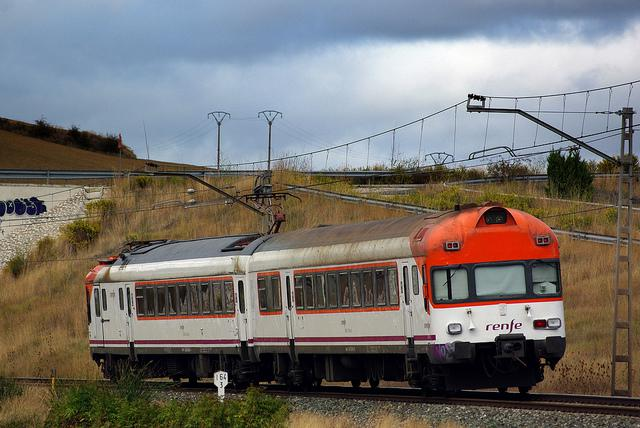Train: (85, 204, 569, 394)
